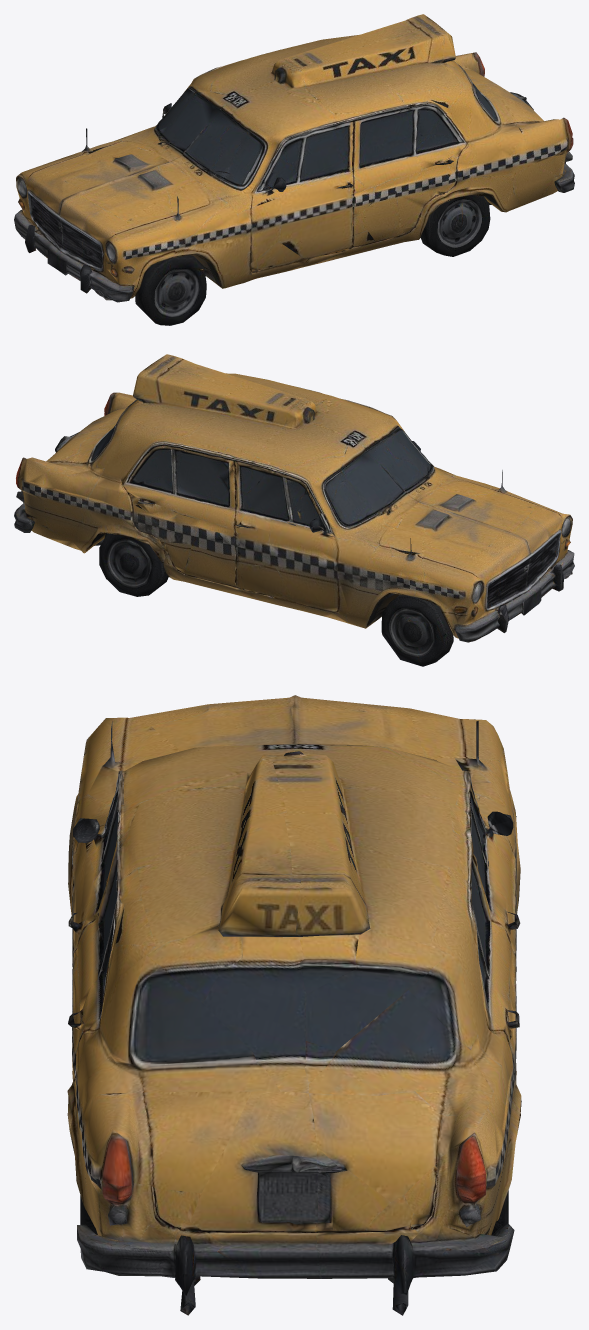
File: car_taxi_light_q4.glb
3 views of the same model, one above another, from view 1: azimuth 30°, elevation 25°; view 2: azimuth 150°, elevation 25°; view 3: azimuth 270°, elevation 25° (orthographic). The views are drawn at different scales.
Size of the model in its own units: 4.01 by 1.5 by 1.62.
1 material, 1 textured.
